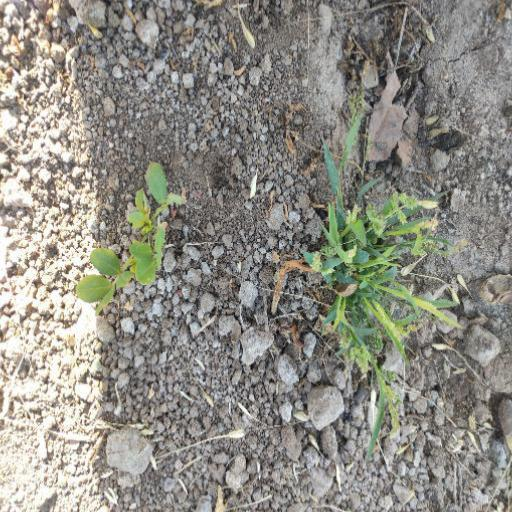weed: (305, 165, 455, 403), (74, 159, 172, 311)
